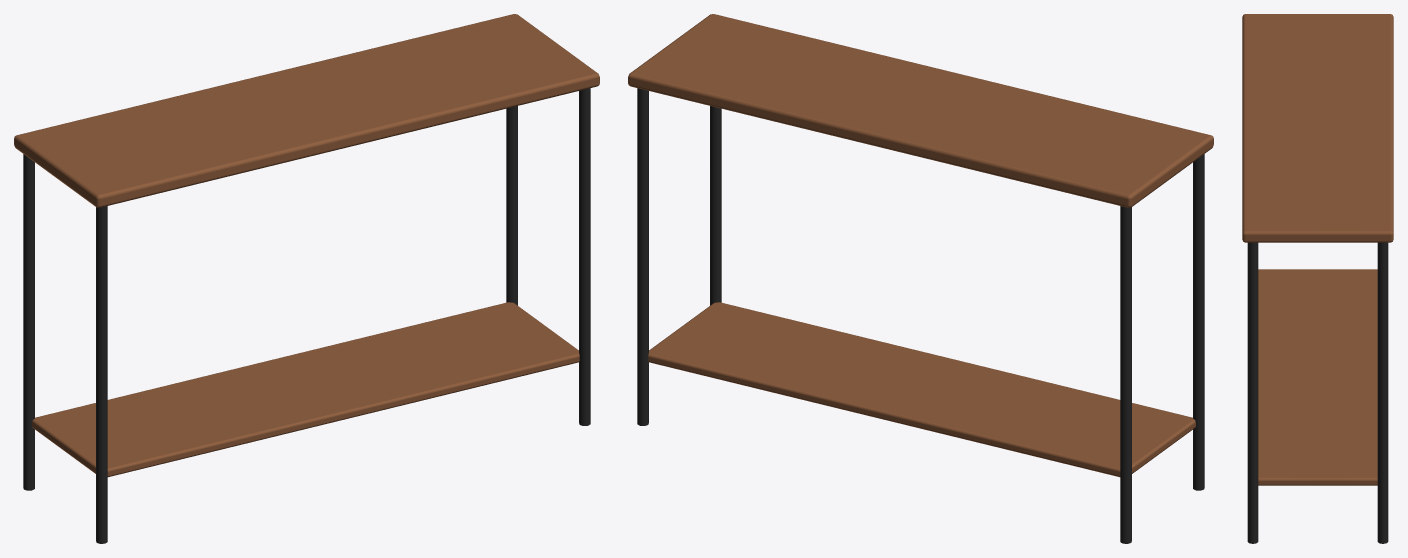
The picture shows the model from 3 angles, left to right: view 1: azimuth 30°, elevation 25°; view 2: azimuth 150°, elevation 25°; view 3: azimuth 270°, elevation 25°; orthographic projection. The views are drawn at different scales.
Parts seen in each view (by area): view 1: top, shelf, leg-3, leg-4, leg-1, leg-2; view 2: top, shelf, leg-1, leg-2, leg-3, leg-4; view 3: top, shelf, leg-2, leg-4.
Boxes of the visible parts, x1,y1,x2,y2 form: top: (14, 14, 599, 207); shelf: (32, 302, 579, 477); leg-3: (96, 206, 107, 543); leg-4: (579, 88, 590, 425); leg-1: (23, 154, 34, 490); leg-2: (506, 106, 517, 305); top: (628, 14, 1213, 207); shelf: (648, 302, 1195, 477); leg-1: (1120, 206, 1131, 543); leg-2: (637, 88, 648, 425); leg-3: (1193, 154, 1204, 490); leg-4: (710, 106, 721, 305); top: (1242, 14, 1393, 242); shelf: (1258, 269, 1377, 485); leg-2: (1377, 242, 1388, 543); leg-4: (1247, 242, 1258, 543).
Size of the model in its own units: 1.2 by 0.8 by 0.35.
